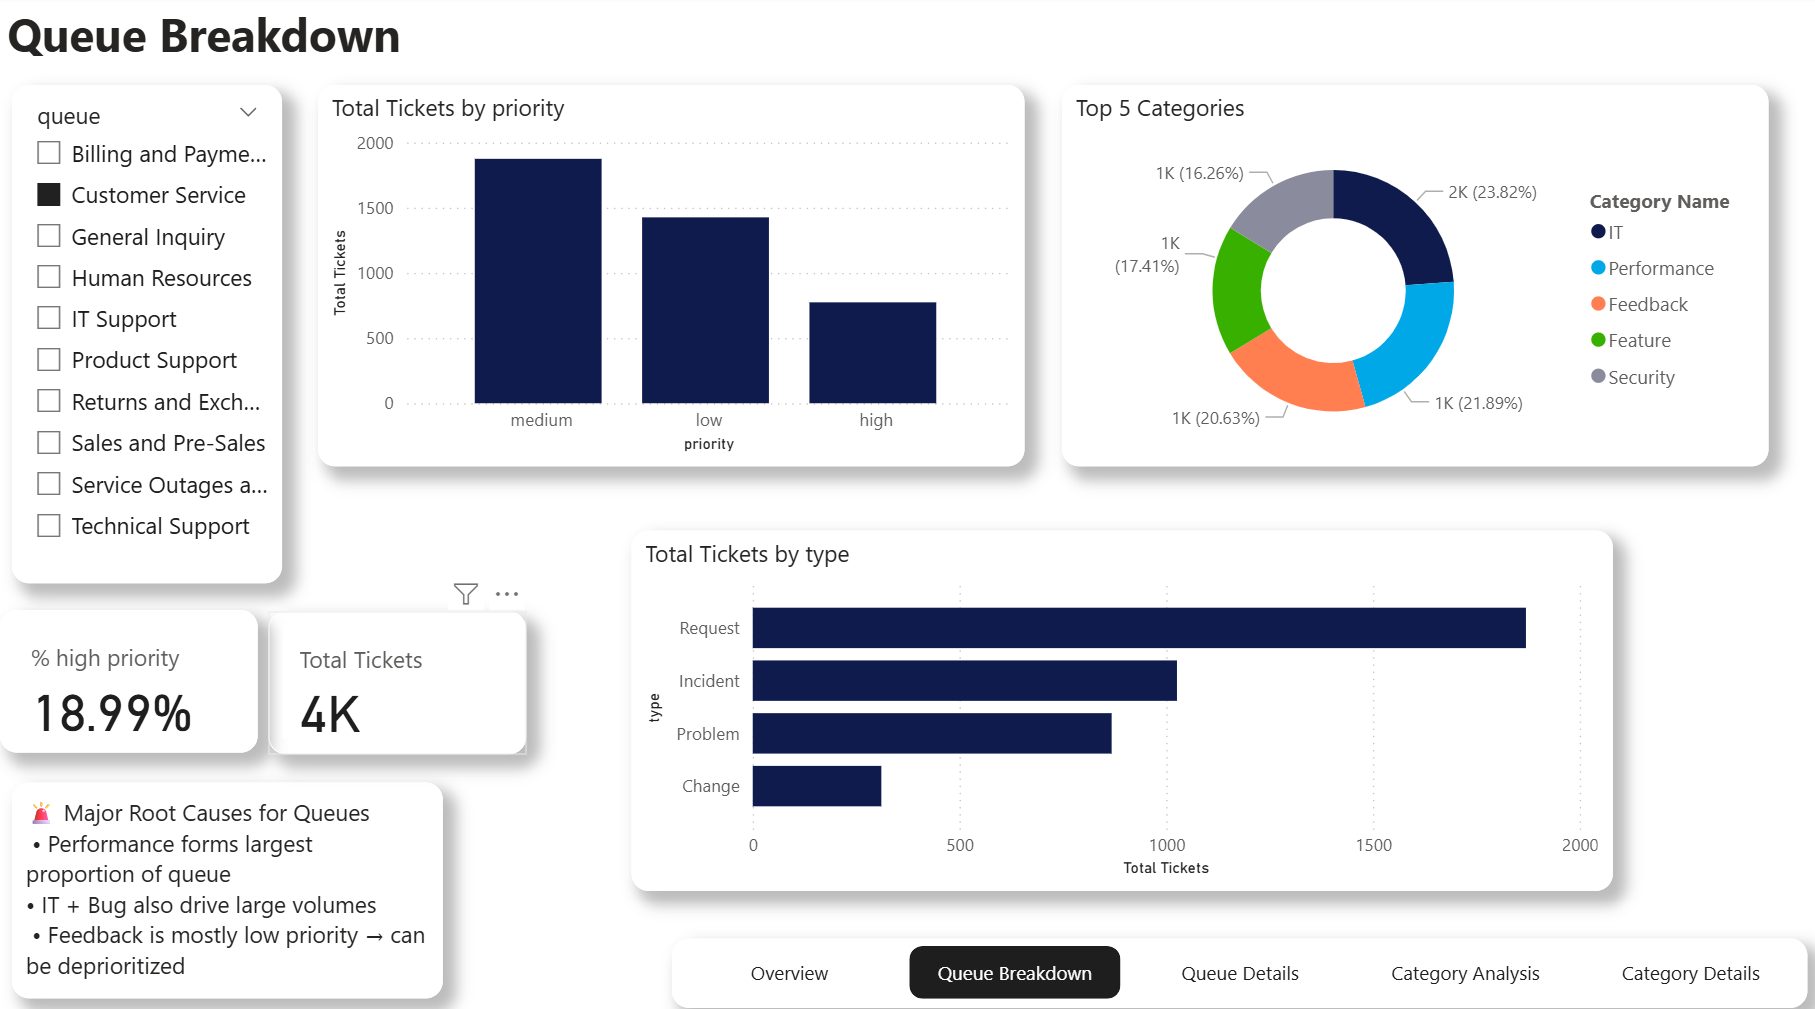

The dashboard page shown, as its layout file describes it:
{"tool":"powerbi","page":{"name":"Queue Breakdown","canvas":[1280,720],"ordinal":1},"visuals":[{"type":"shape","box":[471.1,661.5,796.1,48.4],"z":0},{"type":"slicer","fields":{"Values":["dataset.queue"]},"box":[8.4,63.1,189.3,349.1],"z":1000},{"type":"clusteredColumnChart","fields":{"Y":["Table.Total Tickets"],"Category":["dataset.priority"]},"box":[222.9,63.1,495.3,267.1],"z":2000},{"type":"clusteredBarChart","fields":{"Y":["Table.Total Tickets"],"Category":["dataset.type"]},"box":[442.7,375.4,687.8,252.4],"z":3000},{"type":"donutChart","title":"Top 5 Categories","fields":{"Category":["dataset.Category Name"],"Y":["Table.Total Tickets"]},"box":[744.5,63.1,495.3,267.1],"z":4000},{"type":"cardVisual","fields":{"Data":["Table.% high priority"]},"box":[0,431.2,180.9,99.9],"z":5000},{"type":"cardVisual","fields":{"Data":["Table.Total Tickets"]},"box":[188.2,432.2,180.9,99.9],"z":6000},{"type":"textbox","box":[487,499,341,173],"z":7000},{"type":"pageNavigator","box":[479.5,666.7,780.3,37.9],"z":8000},{"type":"textbox","box":[8.4,552.1,301.8,151.4],"z":9000},{"type":"textbox","box":[0,0,310.2,63.1],"z":10000}]}

Visuals, with their boxes in screenshot pixels (x1, y1, x2, y2), scaled from the page's 1280x720 canvas onto the 1815x1009 screenshot:
shape: 668 927 1797 995
slicer - dataset.queue: 12 88 280 578
clusteredColumnChart - Table.Total Tickets x dataset.priority: 316 88 1018 463
clusteredBarChart - Table.Total Tickets x dataset.type: 628 526 1603 880
"Top 5 Categories" donutChart: 1056 88 1758 463
cardVisual - Table.% high priority: 0 604 257 744
cardVisual - Table.Total Tickets: 267 606 523 746
textbox: 691 699 1174 942
pageNavigator: 680 934 1786 987
textbox: 12 774 440 986
textbox: 0 0 440 88
